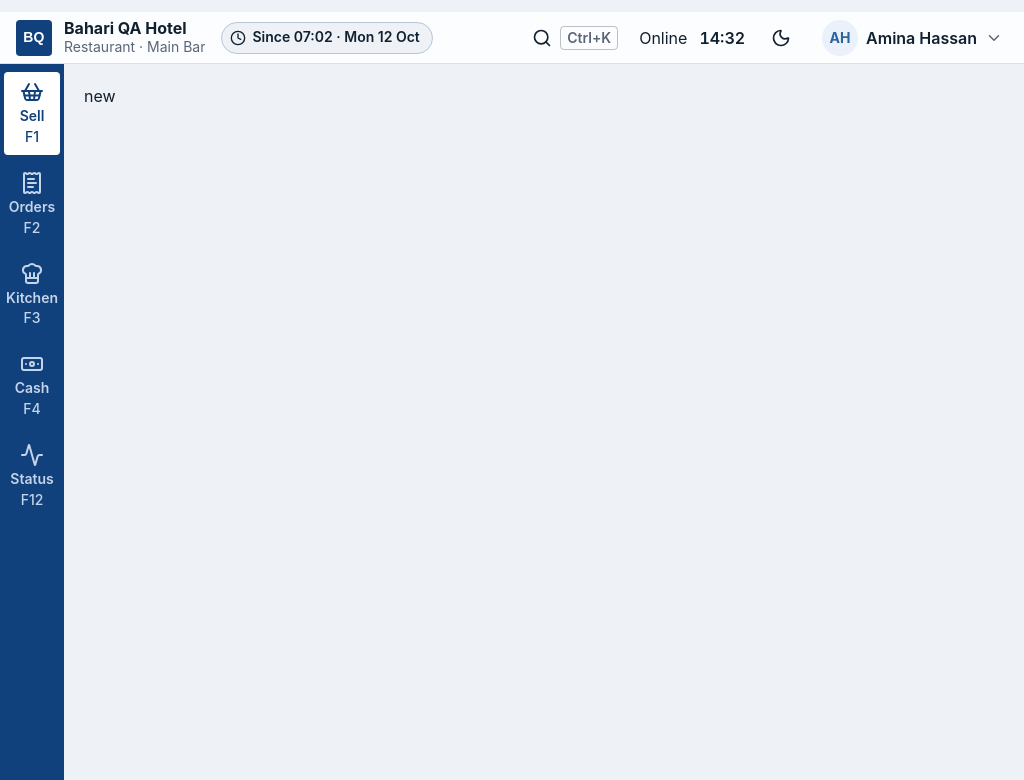
Test: TillShell keyboard › closes the person menu when a section key moves the till, and on Esc wherever focus is
This screenshot has width=1024, height=780.
Click the button with test id "person-menu": click(913, 38) top-left (813, 14), bottom-right (1012, 62)
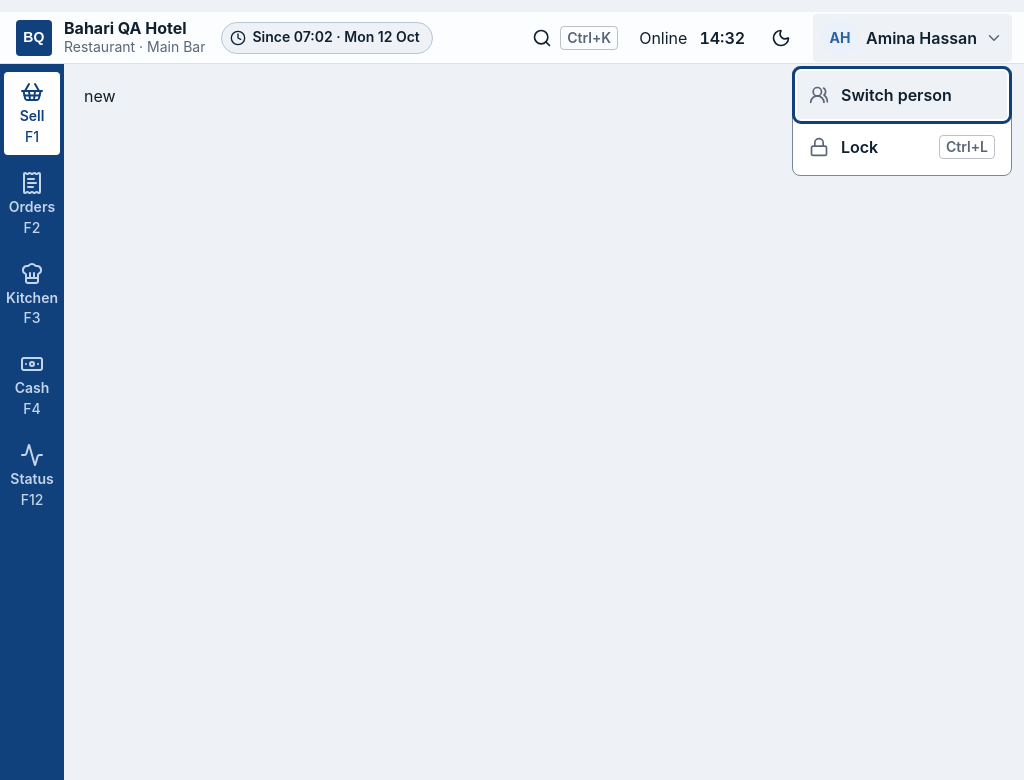
Expected: the menu is shown, top-left (792, 66), bottom-right (1012, 176)
Press F2
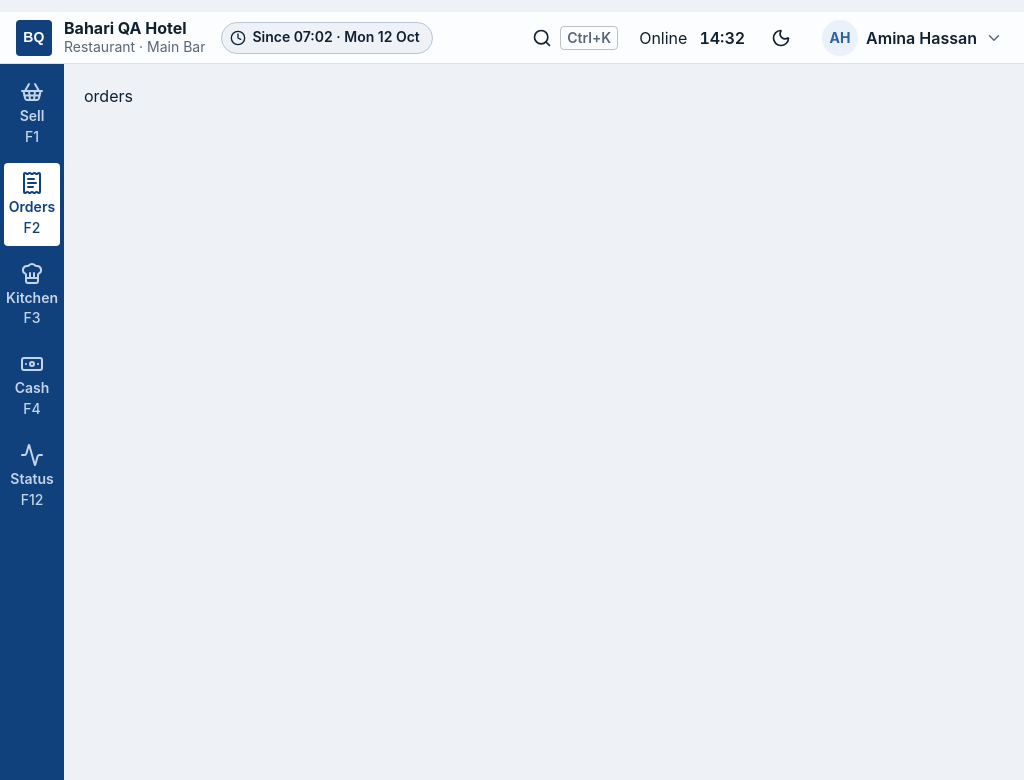
Expected: the text with test id "current-page" reads "orders", top-left (84, 86), bottom-right (133, 106)
Expected: the menu is gone
Click the button with test id "person-menu": click(913, 38) top-left (813, 14), bottom-right (1012, 62)
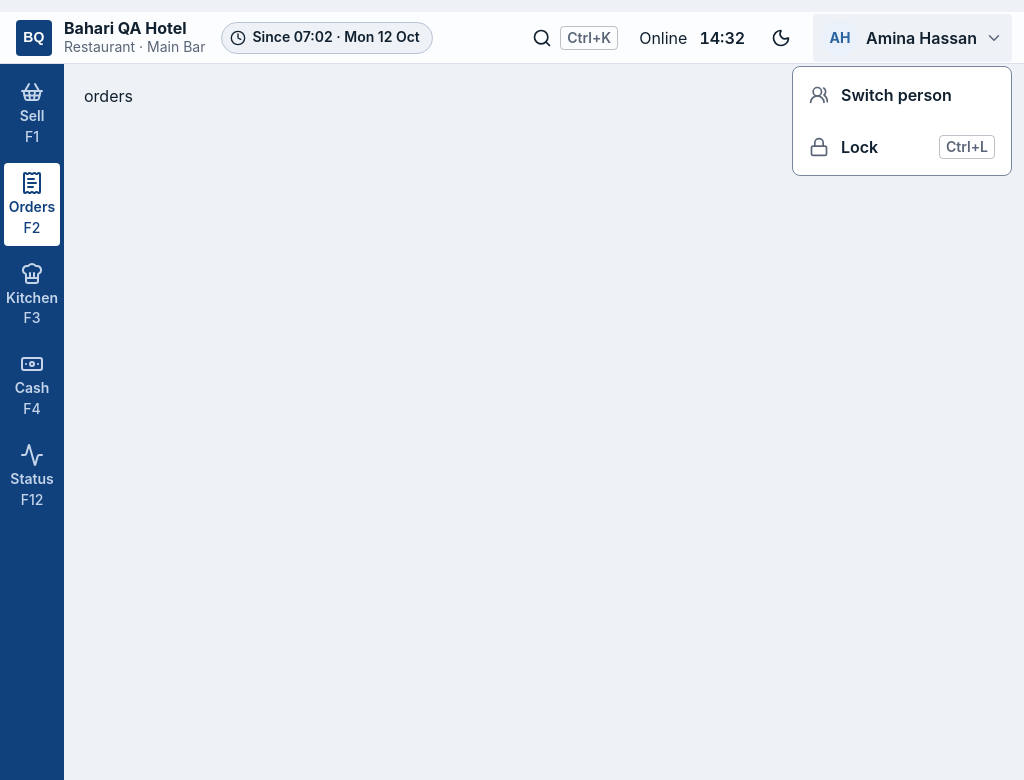
Expected: the menu is shown, top-left (792, 66), bottom-right (1012, 176)
Press Escape
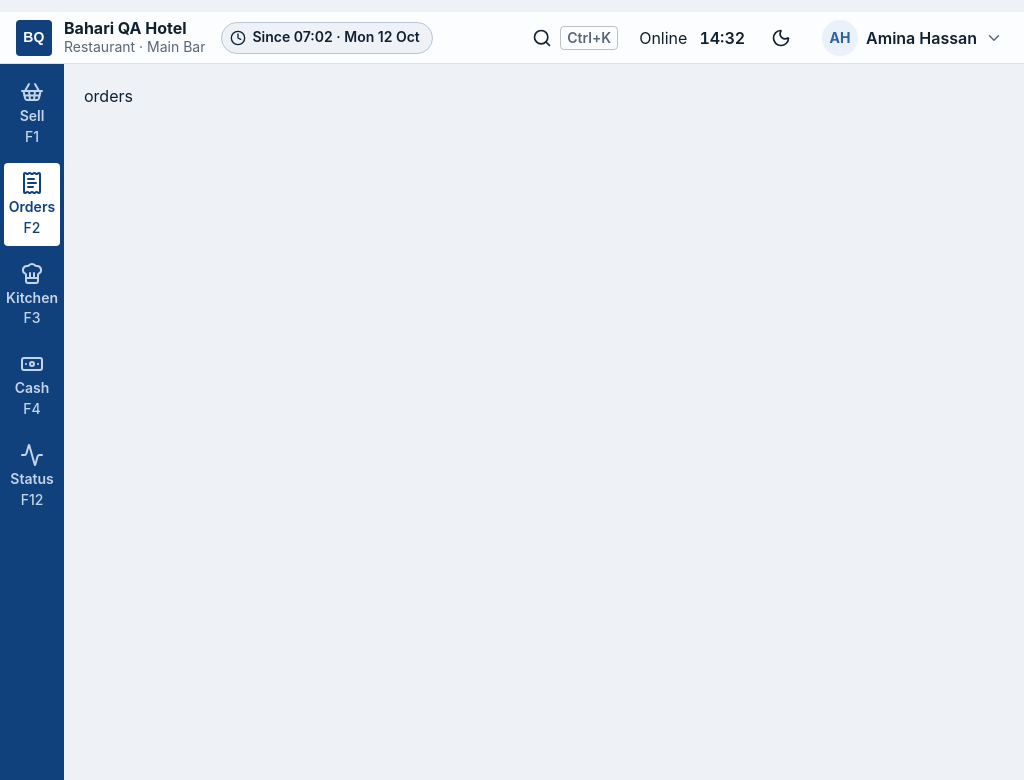
Expected: the menu is gone
